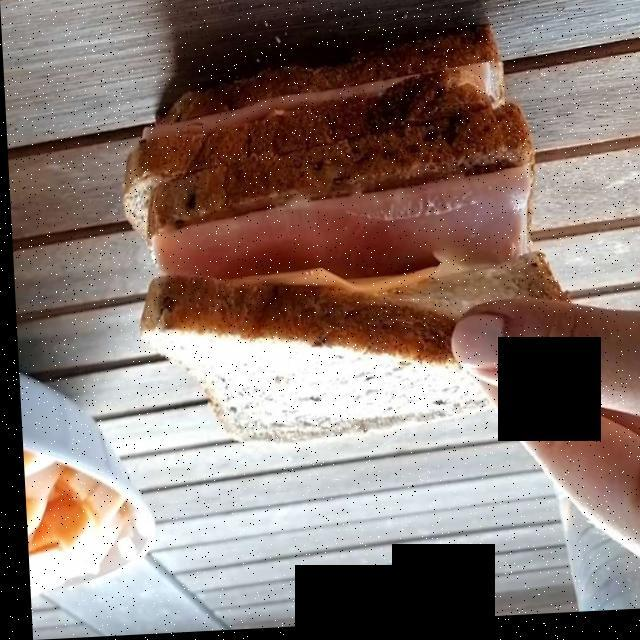bread: (146, 20, 533, 448)
cheese: (194, 251, 509, 314)
ham: (128, 71, 521, 282)
